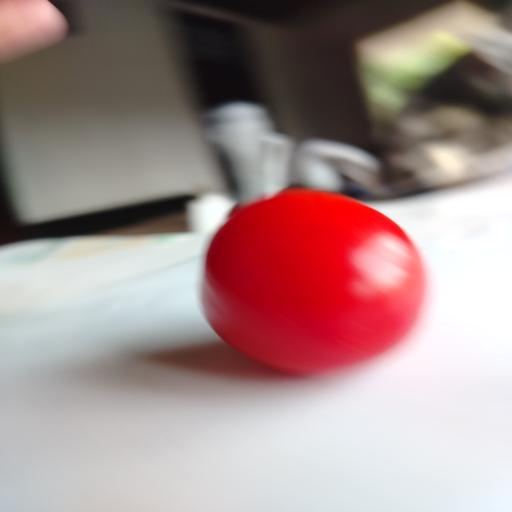ripe: (202, 189, 425, 374)
